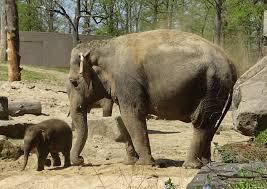elephant: (23, 29, 236, 170)
